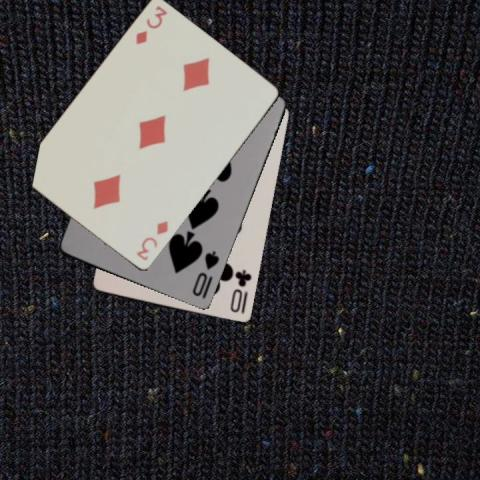10c: (228, 267, 254, 315)
10s: (190, 249, 222, 298)
3d: (133, 218, 170, 263), (133, 3, 169, 46)
